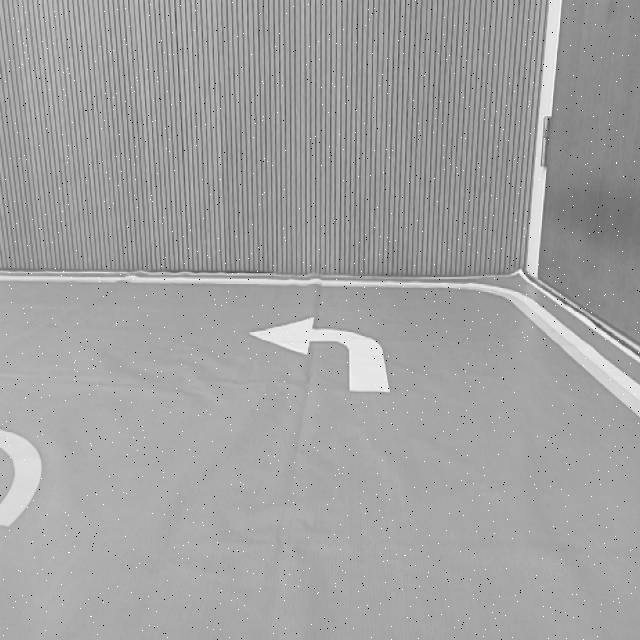left_lane: (0, 464, 40, 530)
right_lane: (508, 300, 640, 414)
